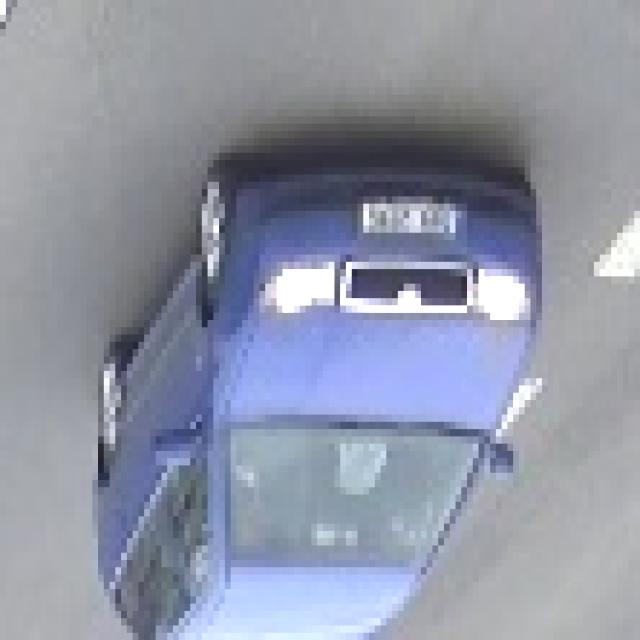blue: (104, 167, 542, 640)
